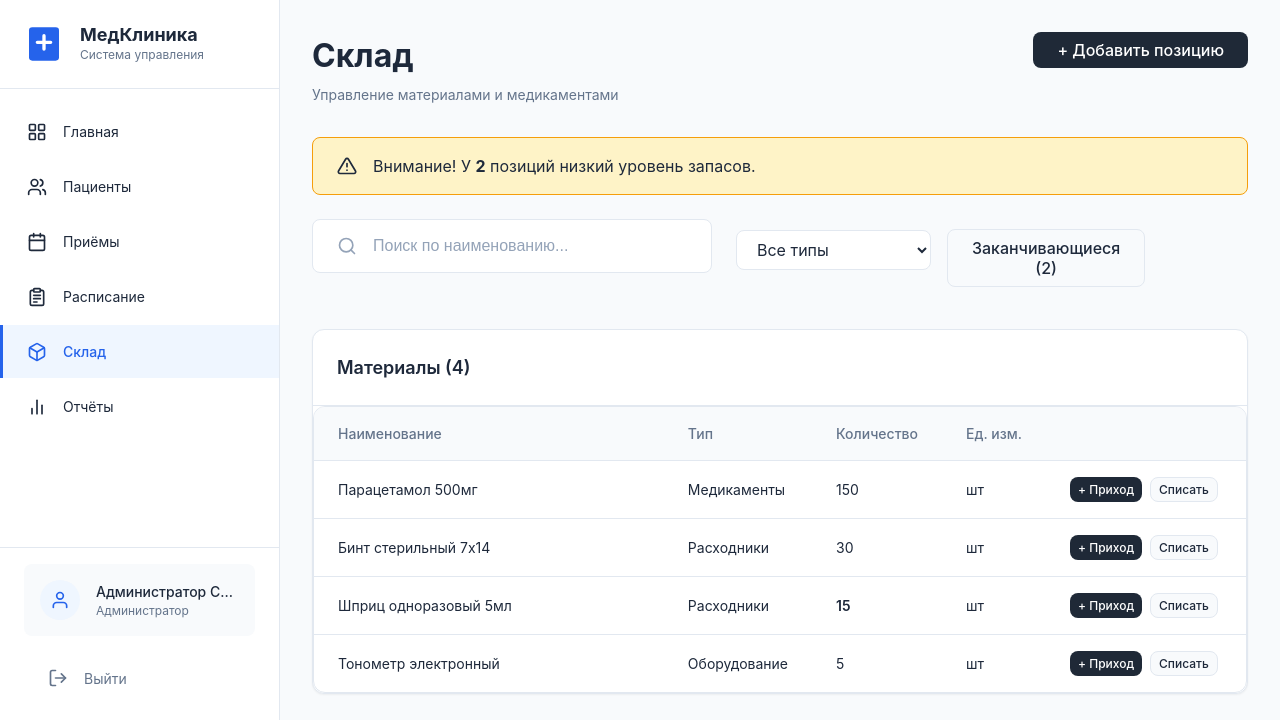
Склад - Список материалов › Проверка открытия модального окна прихода
This screenshot has width=1280, height=720.
What coordinates should you click on to do the following:
click the button "+ Приход" in the row of "Парацетамол 500мг"
I would click on:
 (1106, 490)
Its box is [1070, 477, 1142, 502].
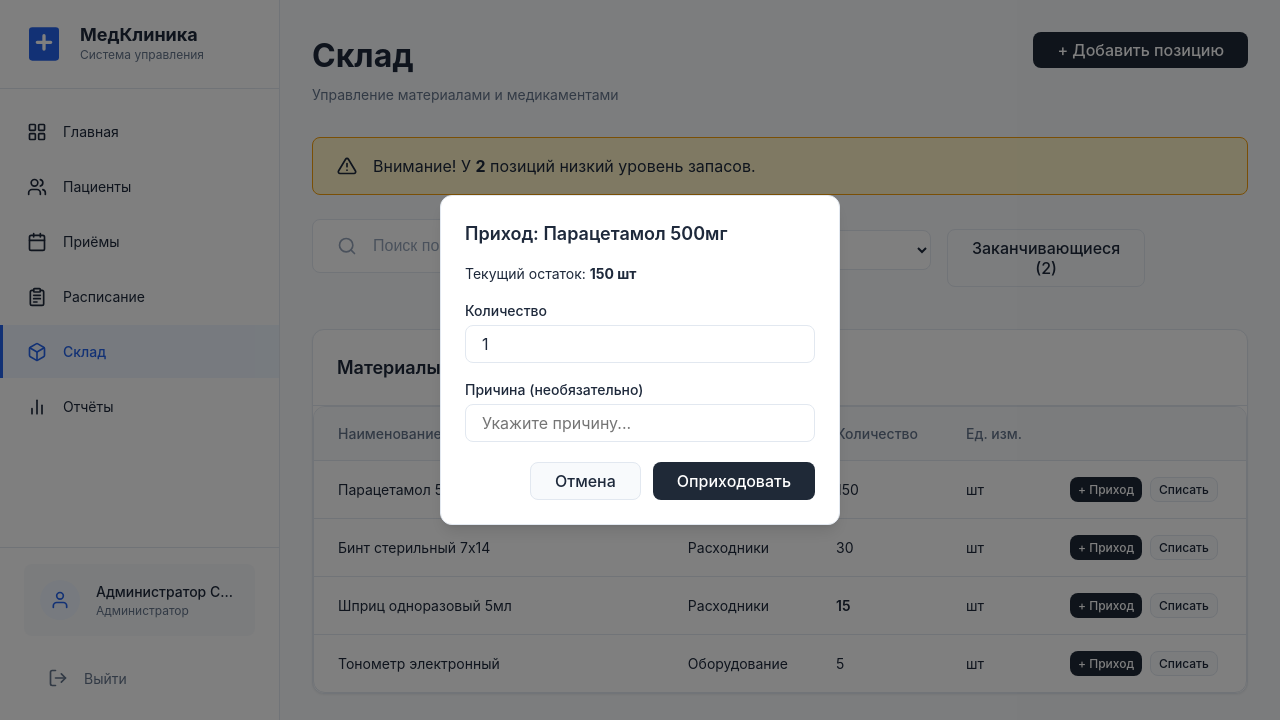
Result: the element with class "modal" is shown at [440, 195, 840, 525]
